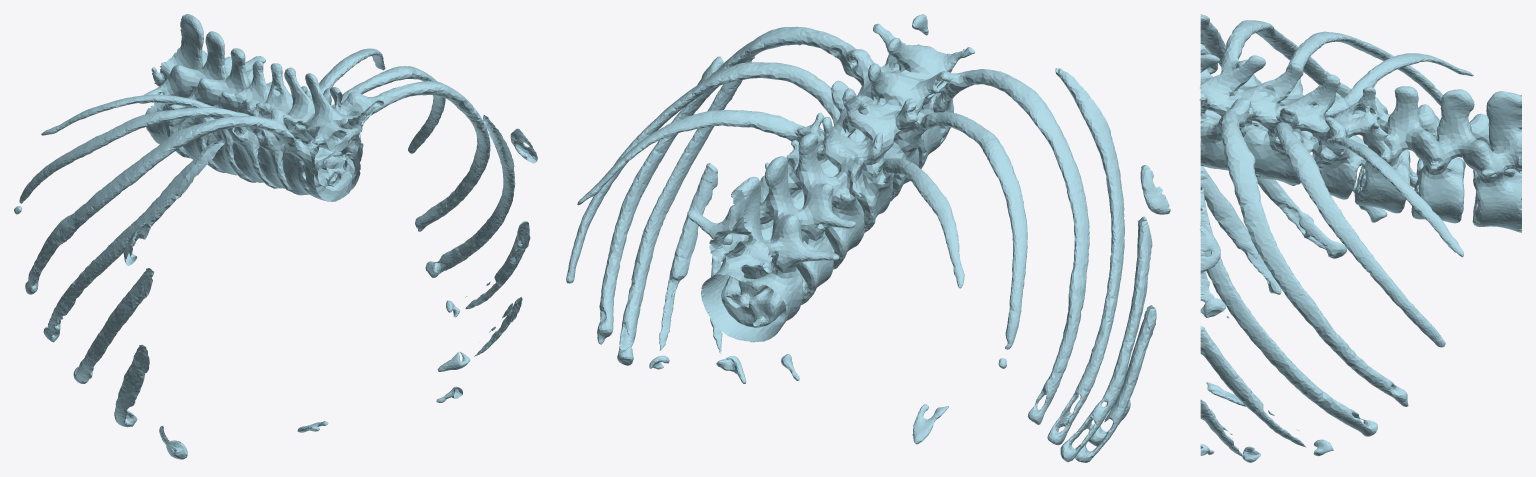
File: bone.obj
3 views of the same model, side by side, from view 1: azimuth 30°, elevation 25°; view 2: azimuth 150°, elevation 25°; view 3: azimuth 270°, elevation 25° (orthographic). The views are drawn at different scales.
Parts seen in each view (by area): view 1: grp1; view 2: grp1; view 3: grp1.
Part boxes in pixels (x1,y1,x2,y2): grp1: [14, 14, 537, 459]; grp1: [566, 14, 1170, 462]; grp1: [1199, 14, 1521, 462].
Size of the model in its own units: 294 by 238 by 193.
